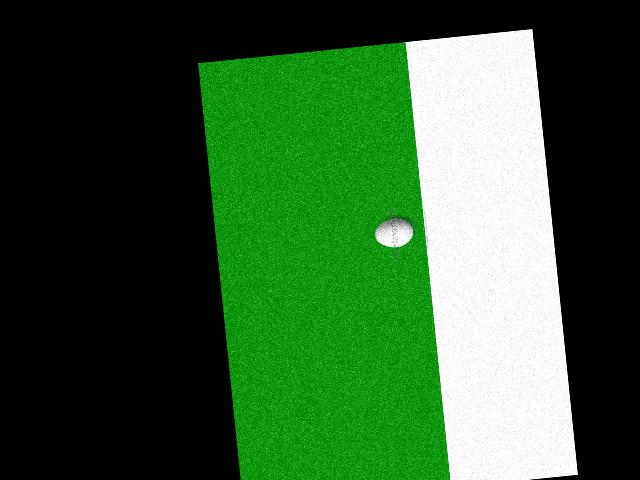egg: (373, 216, 414, 249)
